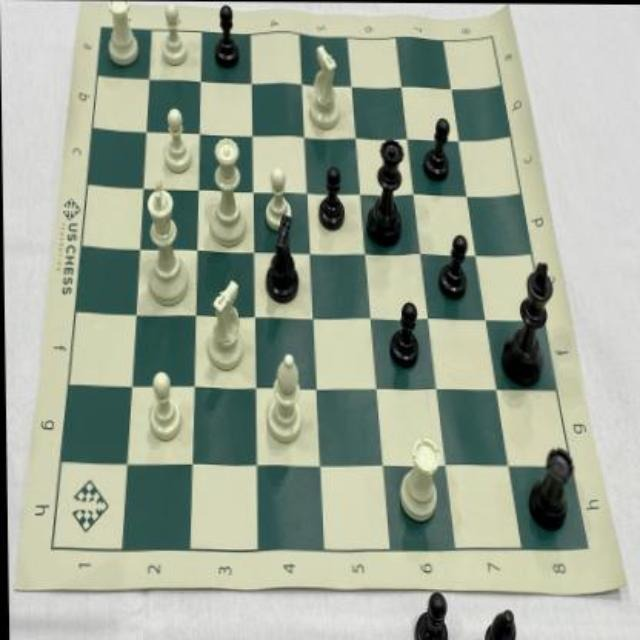black-king: (494, 260, 555, 390)
black-knight: (256, 213, 300, 305)
black-pawn: (384, 295, 420, 373), (436, 231, 469, 303), (420, 113, 452, 183), (212, 1, 242, 74), (317, 163, 345, 236)
black-queen: (364, 133, 406, 251)
black-rook: (525, 441, 575, 533)
white-bishop: (260, 347, 303, 448)
white-king: (140, 176, 192, 308)
white-knight: (206, 274, 244, 374), (304, 38, 342, 132)
white-pawn: (143, 365, 184, 443), (158, 104, 193, 173), (258, 164, 291, 233), (158, 2, 190, 66)
white-queen: (208, 133, 248, 249)
white-rook: (393, 429, 443, 527), (103, 0, 143, 69)
